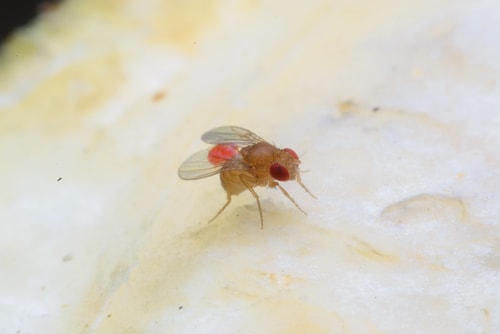Fruit fly: (168, 114, 315, 219)
